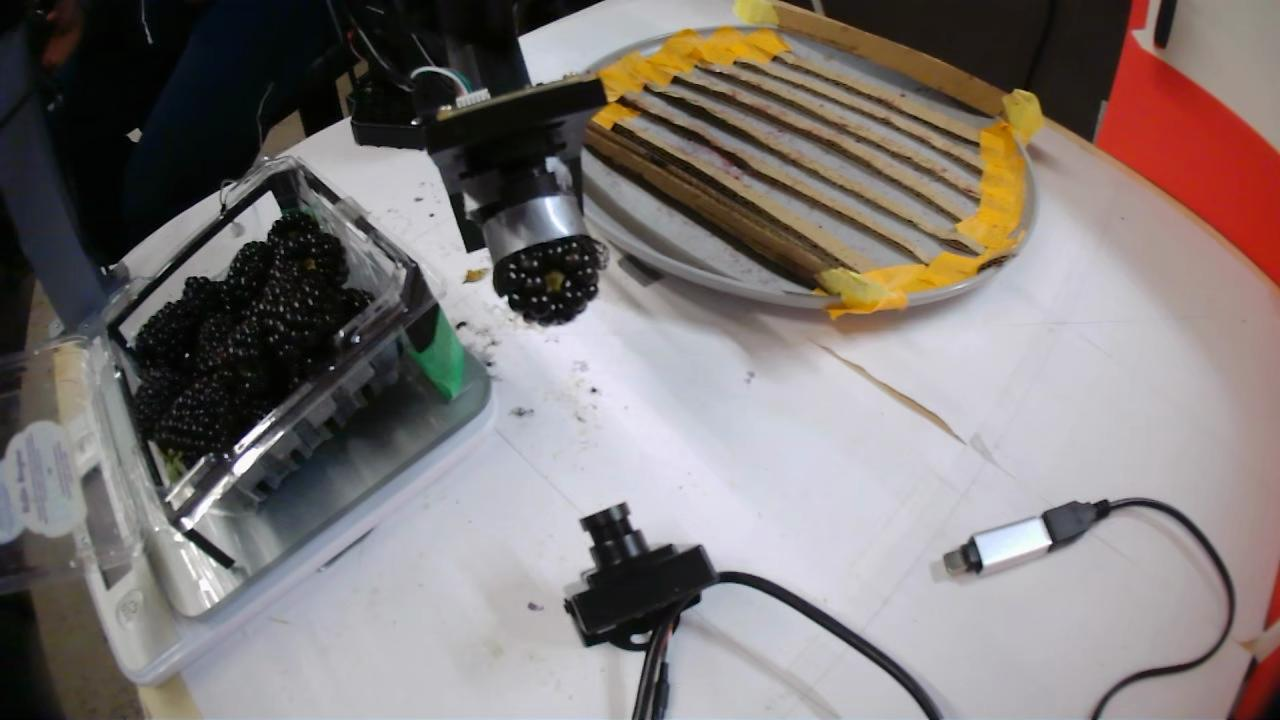berry: (494, 235, 604, 325), (156, 379, 234, 461), (132, 296, 204, 381), (269, 271, 336, 349), (222, 316, 277, 400), (214, 241, 273, 314), (286, 233, 348, 288), (133, 370, 182, 439), (267, 209, 334, 257), (197, 304, 239, 369), (177, 276, 224, 315)
